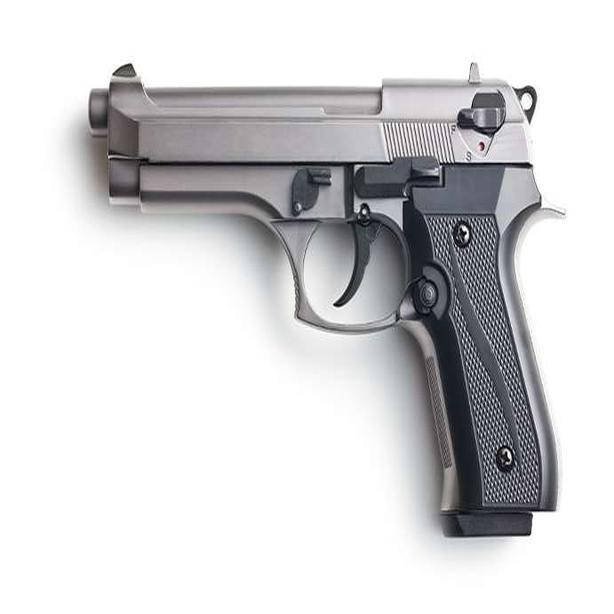Firearm: (80, 35, 569, 554)
